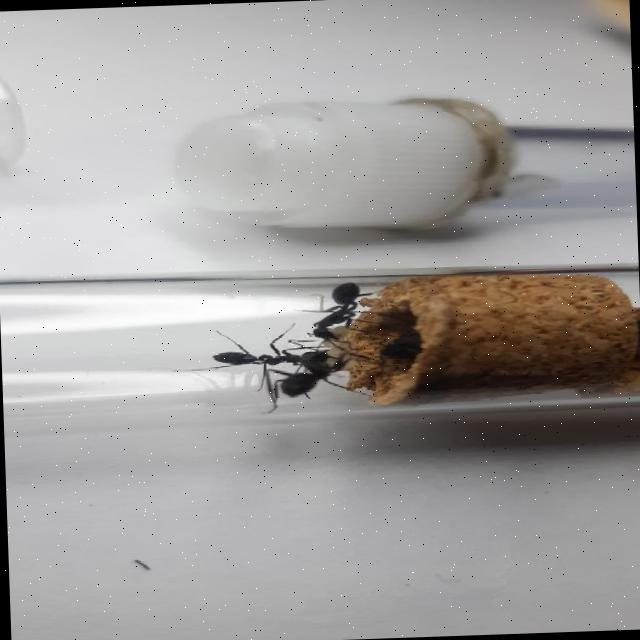Minor: (296, 280, 383, 352), (265, 348, 357, 414)
